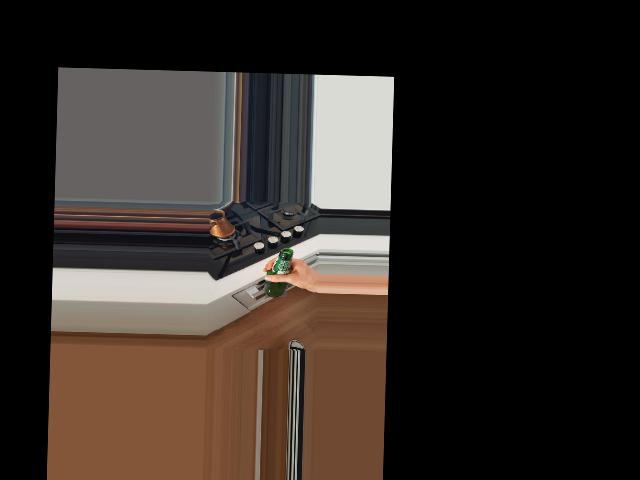beer: (264, 247, 293, 298)
